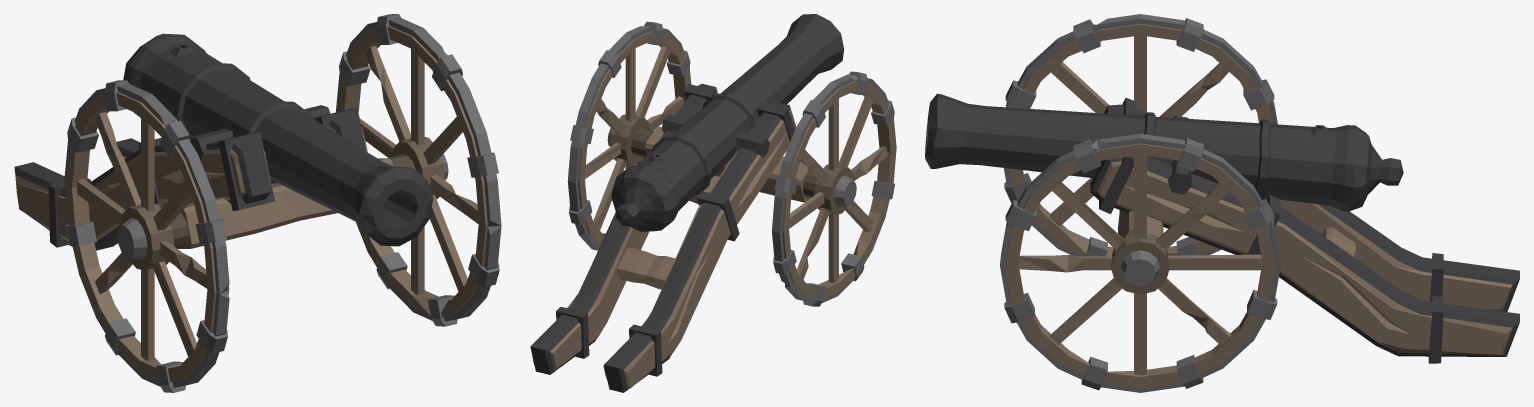
The model's file is SM_Prop_Cannon_03.glb.
3 renders of one model, left to right at view 1: azimuth 30°, elevation 25°; view 2: azimuth 150°, elevation 25°; view 3: azimuth 270°, elevation 25°, orthographic. The views are drawn at different scales.
Parts seen in each view (by area): view 1: SM_Prop_Cannon_03_part00; view 2: SM_Prop_Cannon_03_part00; view 3: SM_Prop_Cannon_03_part00.
Part boxes in pixels (bbox=[...]): SM_Prop_Cannon_03_part00: bbox=[14, 14, 501, 392]; SM_Prop_Cannon_03_part00: bbox=[530, 14, 896, 392]; SM_Prop_Cannon_03_part00: bbox=[925, 14, 1519, 392].
Bounding box in the file's own units: 1.61 × 1.4 × 2.92.
1 material, 1 textured.
